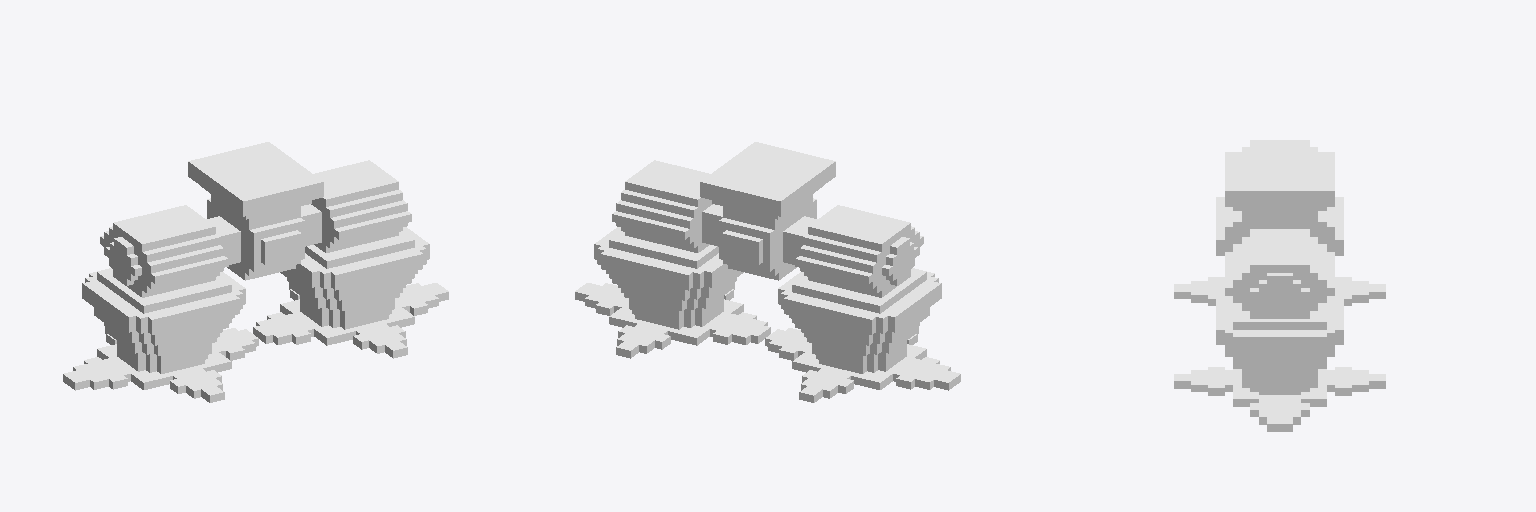
Rendered from Legs.obj.
3 views of the same model, side by side, from view 1: azimuth 30°, elevation 25°; view 2: azimuth 150°, elevation 25°; view 3: azimuth 270°, elevation 25° (orthographic).
Bounding box in the file's own units: 51 × 22 × 25.